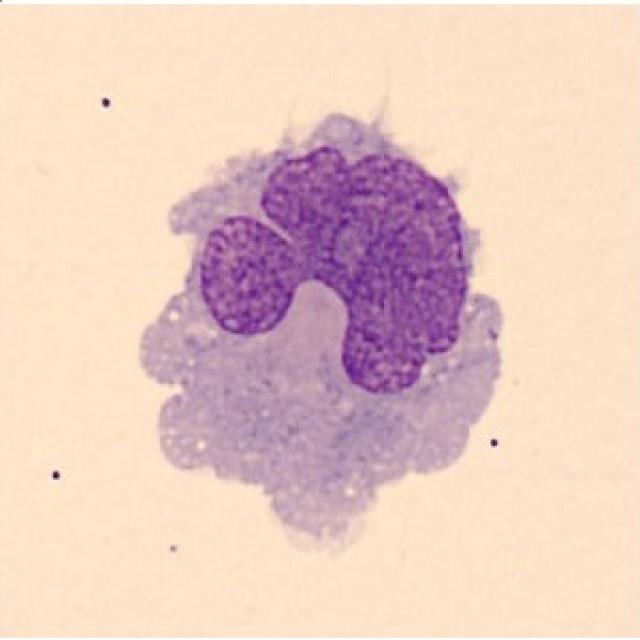WBC: (115, 106, 540, 572)
